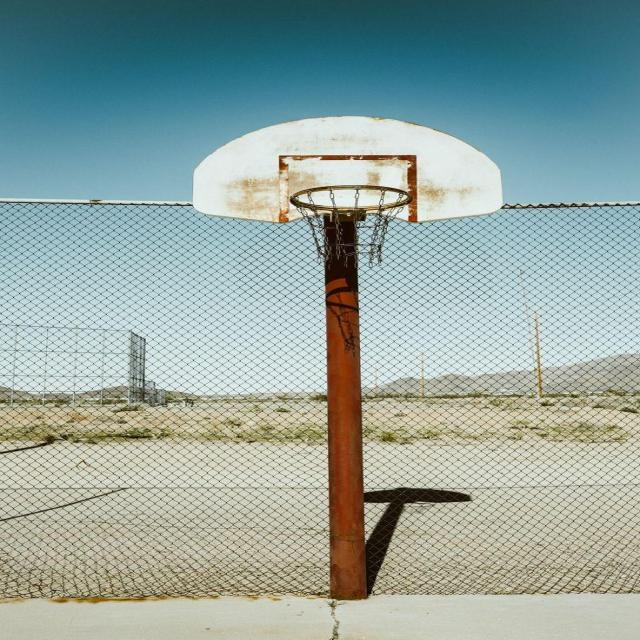hoop: (267, 183, 478, 278)
